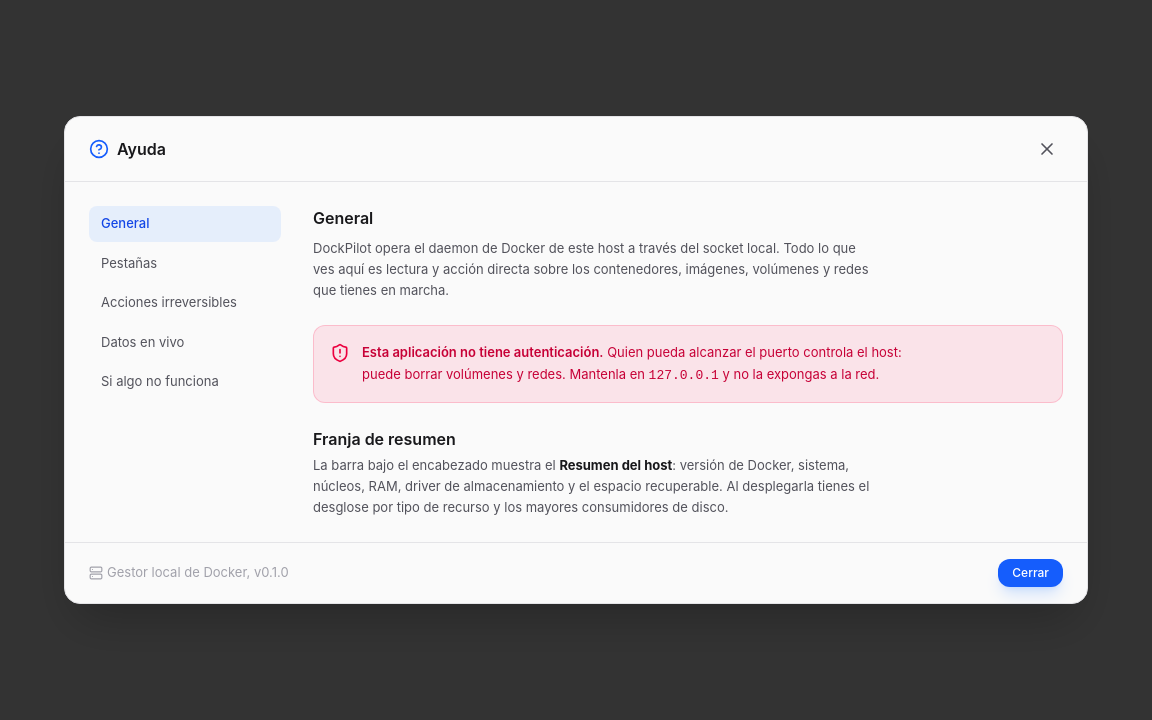
Test: HelpModal › documenta que bajar un proyecto con volúmenes es la acción más destructiva
The width and height of the screenshot is (1152, 720).
Step 1. Click the button "Acciones irreversibles" → [185, 303], box [89, 285, 281, 320]
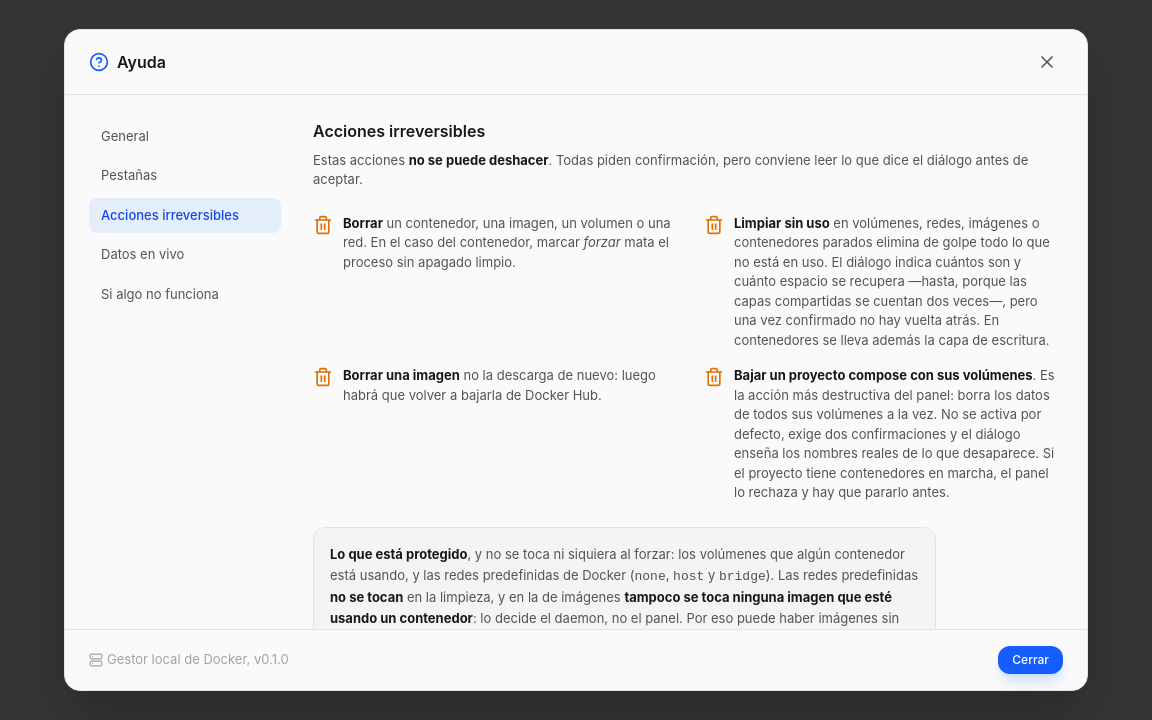
Expected: the text "acción más destructiva del panel" is shown, [734, 367, 1055, 500]
